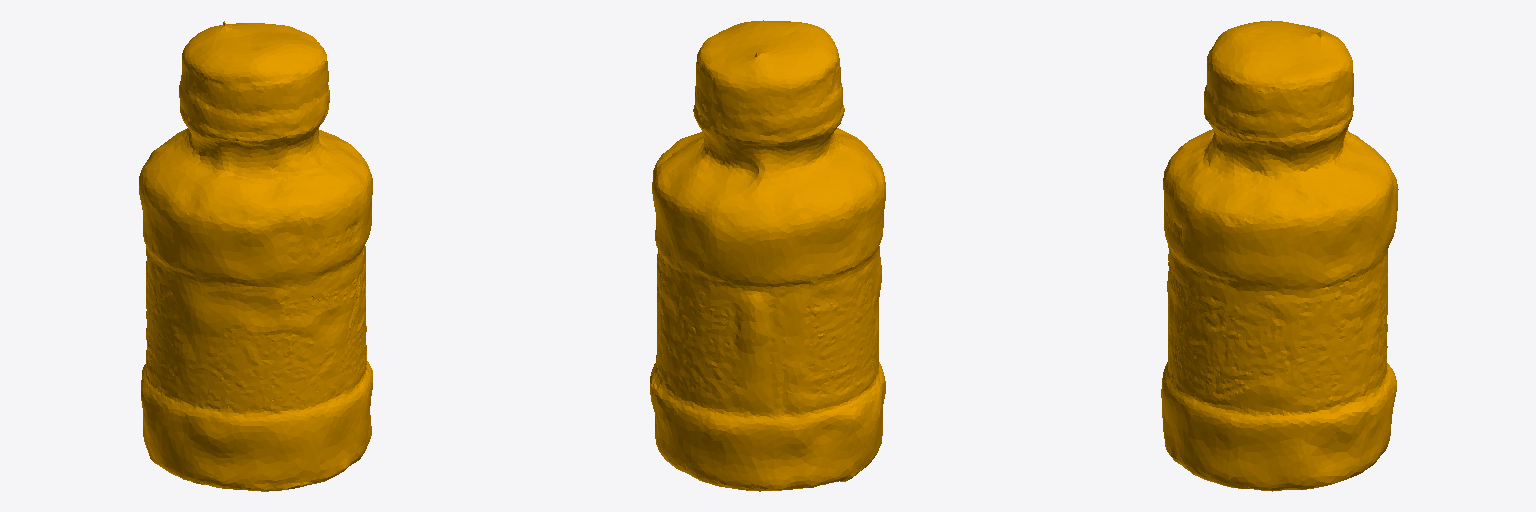
The robot description file, URDF, robot "yoga_can":
<?xml version='1.0' encoding='utf-8'?>
<robot name="yoga_can">
  <link name="yoga_can">
    <visual>
      <origin xyz="0 0 0" rpy="0 0 0" />
      <geometry>
        <mesh filename="yoga_can.obj" scale="1 1 1" />
      </geometry>
    </visual>
    <collision>
      <origin xyz="0 0 0" rpy="0 0 0" />
      <geometry>
        <mesh filename="yoga_can_collision/decomp_0.obj" scale="1 1 1" />
      </geometry>
    </collision>
    <collision>
      <origin xyz="0 0 0" rpy="0 0 0" />
      <geometry>
        <mesh filename="yoga_can_collision/decomp_1.obj" scale="1 1 1" />
      </geometry>
    </collision>
    <collision>
      <origin xyz="0 0 0" rpy="0 0 0" />
      <geometry>
        <mesh filename="yoga_can_collision/decomp_2.obj" scale="1 1 1" />
      </geometry>
    </collision>
    <collision>
      <origin xyz="0 0 0" rpy="0 0 0" />
      <geometry>
        <mesh filename="yoga_can_collision/decomp_3.obj" scale="1 1 1" />
      </geometry>
    </collision>
    <collision>
      <origin xyz="0 0 0" rpy="0 0 0" />
      <geometry>
        <mesh filename="yoga_can_collision/decomp_4.obj" scale="1 1 1" />
      </geometry>
    </collision>
    <collision>
      <origin xyz="0 0 0" rpy="0 0 0" />
      <geometry>
        <mesh filename="yoga_can_collision/decomp_5.obj" scale="1 1 1" />
      </geometry>
    </collision>
    <collision>
      <origin xyz="0 0 0" rpy="0 0 0" />
      <geometry>
        <mesh filename="yoga_can_collision/decomp_6.obj" scale="1 1 1" />
      </geometry>
    </collision>
    <inertial>
      <origin xyz="0.000223177 -0.000424383 -0.00912689" rpy="0 0 0" />
      <mass value="0.128447" />
      <inertia ixx="0.000150413" ixy="3.42362e-08" ixz="5.1029e-07" iyy="0.000150223" iyz="-4.9647e-07" izz="5.4338e-05" />
    </inertial>
  </link>
</robot>

--- Facts derived from the render (not from the file) ---
3 views of the same robot in one strip: view 1: azimuth 30°, elevation 25°; view 2: azimuth 150°, elevation 25°; view 3: azimuth 270°, elevation 25° (orthographic).
Model yoga_can with 1 links and 0 joints (none), rooted at yoga_can, posed every joint at zero.
Links seen in each view (by area): view 1: yoga_can; view 2: yoga_can; view 3: yoga_can.
Boxes of the visible links, x1,y1,x2,y2 form: yoga_can: [139, 21, 372, 491]; yoga_can: [650, 20, 885, 491]; yoga_can: [1161, 20, 1398, 491].
Bounding box of the posed robot: 0.0615 × 0.0625 × 0.1206 m (x, y, z).
1 mesh visuals loaded from 1 distinct referenced files (1 OBJ).
